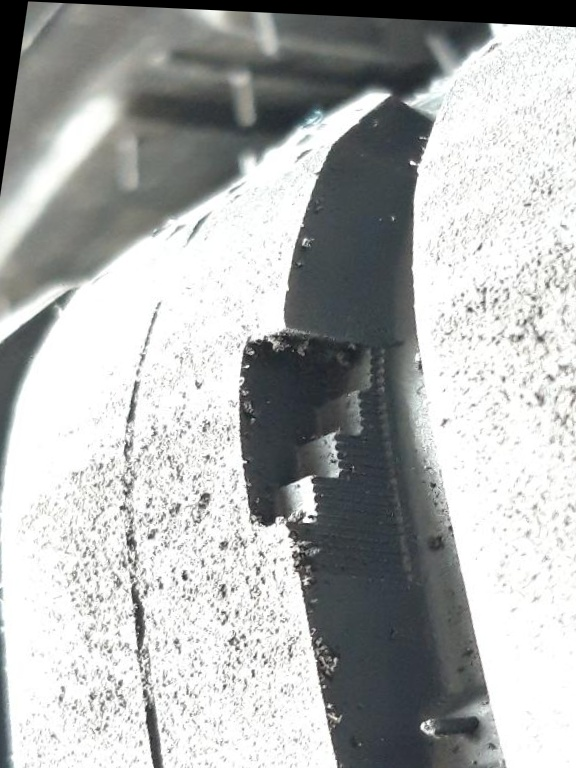temoin:95: (190, 308, 446, 593)
